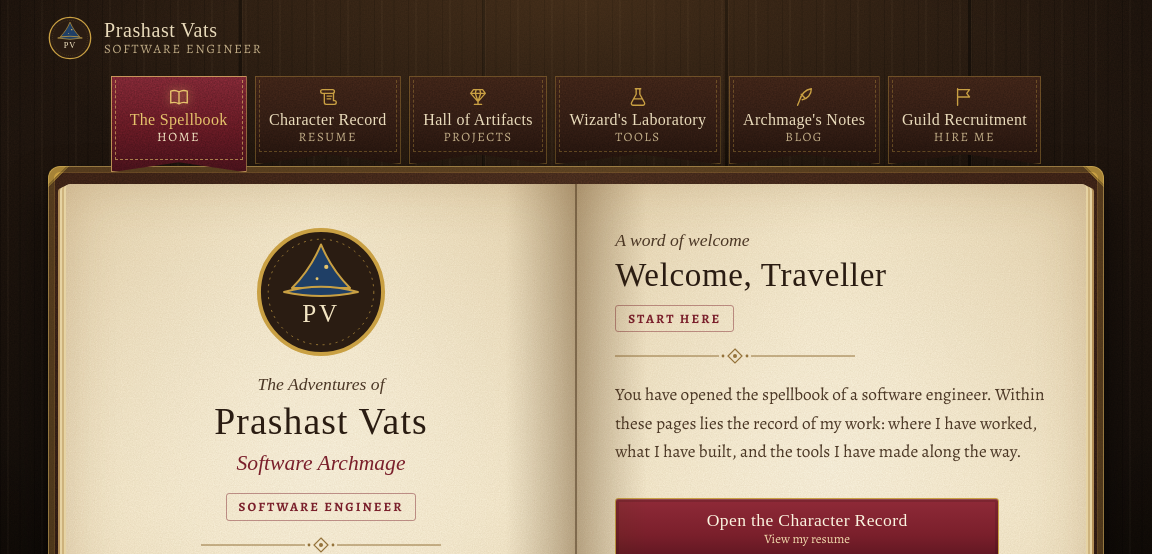
Test: the same track keeps playing across route changes with no new attempts
Click the link "Hall of Artifacts Projects".
click(478, 115)  # box [423,86,533,145]
Wait 1250 ms
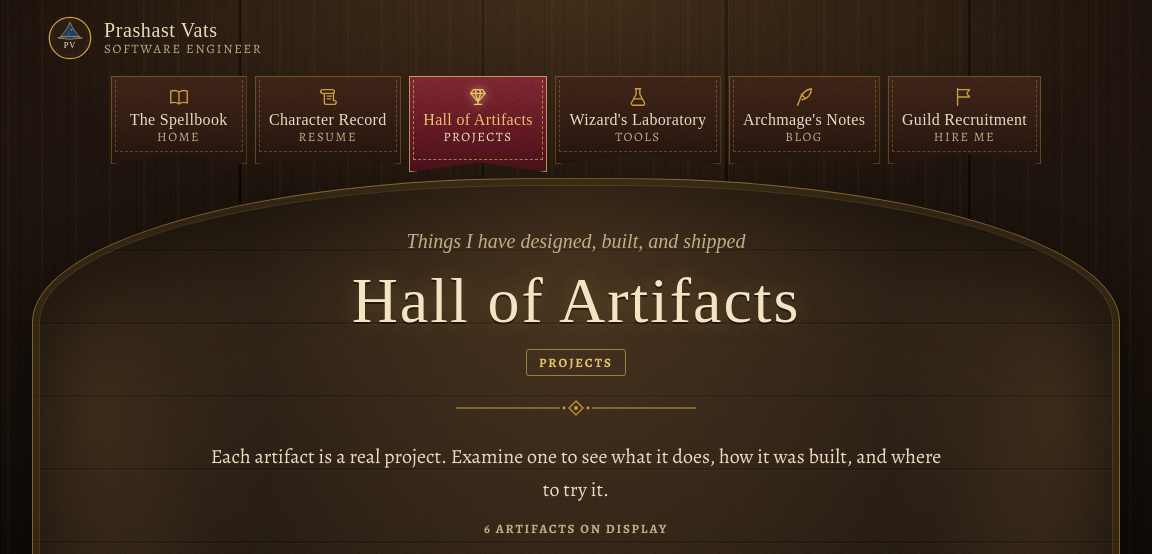
Click the link "Guild Recruitment Hire Me".
click(964, 115)  # box [902,86,1027,145]
Wait 1250 ms
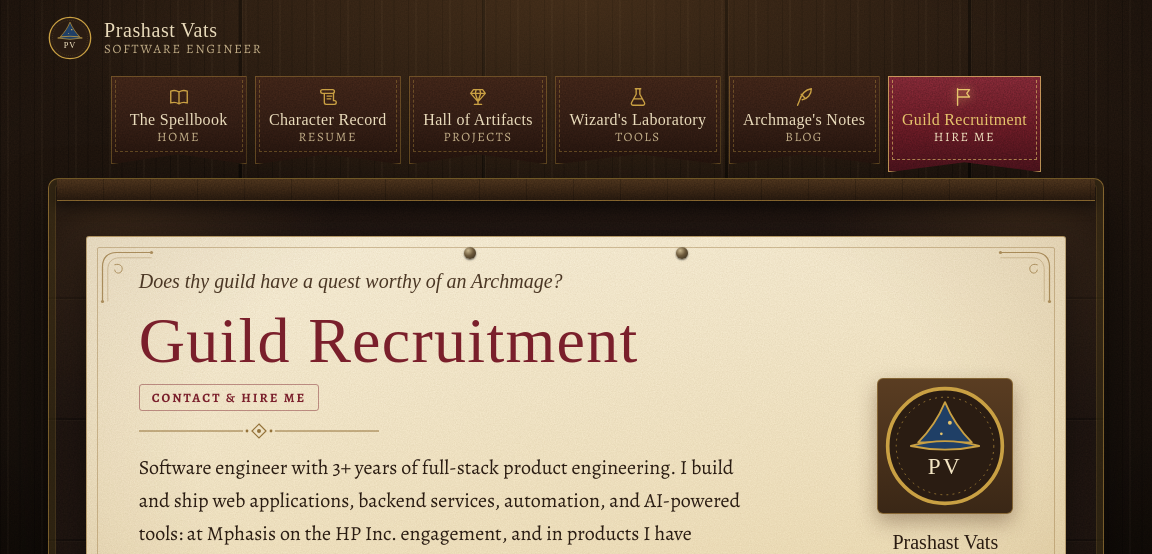
Result: the heading reads "Guild Recruitment" at [139,305,639,376]
